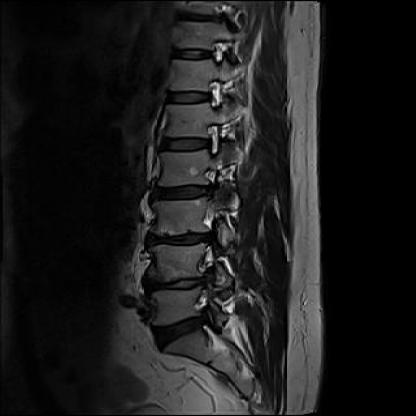Disc Bulgerotation: (145, 303, 228, 353), (148, 174, 242, 218)
